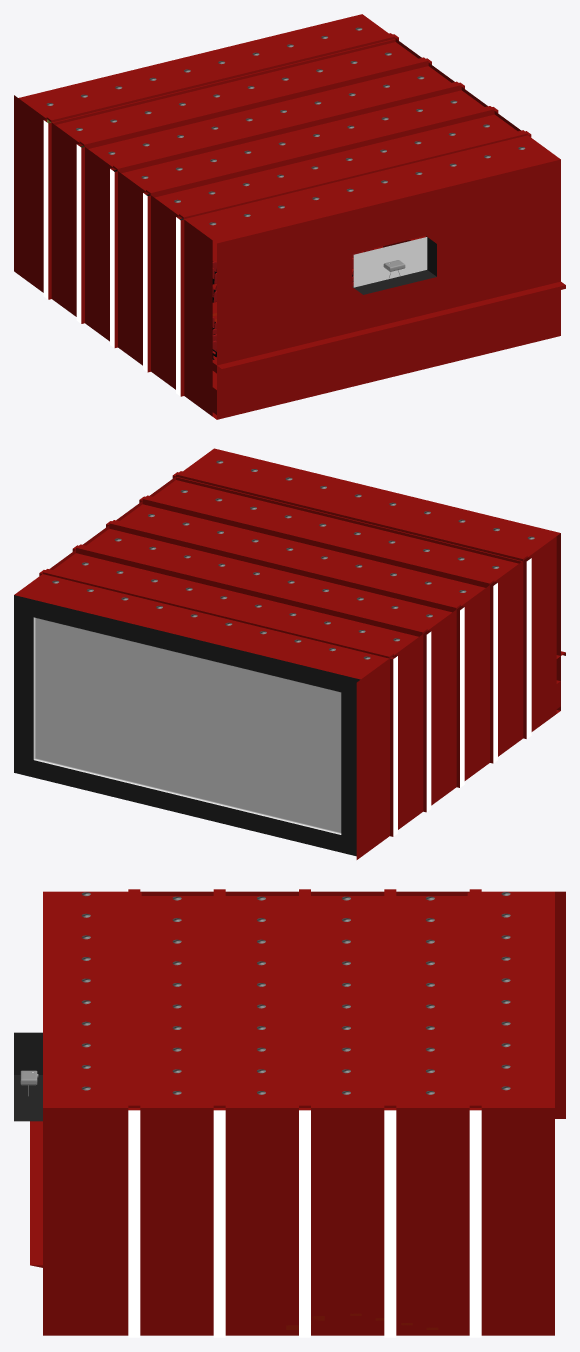
File: theater-webrtc.gltf
3 renders of one model, top to bottom at view 1: azimuth 30°, elevation 25°; view 2: azimuth 150°, elevation 25°; view 3: azimuth 270°, elevation 25°, orthographic. The views are drawn at different scales.
Parts seen in each view (by area): view 1: Plane.046, Plane.013, Mini Light, Cube; view 2: Plane.046, Mini Light; view 3: Plane.046, Mini Light, Plane.013, Cube.
Part boxes in pixels (left/top/right/bottom): Plane.046: left=14, top=14, right=560, bottom=419; Plane.013: left=212, top=281, right=565, bottom=372; Mini Light: left=46, top=27, right=525, bottom=225; Cube: left=212, top=239, right=518, bottom=415; Plane.046: left=14, top=448, right=560, bottom=859; Mini Light: left=52, top=460, right=534, bottom=659; Plane.046: left=14, top=889, right=565, bottom=1337; Mini Light: left=81, top=892, right=510, bottom=1094; Plane.013: left=30, top=1121, right=78, bottom=1268; Cube: left=188, top=1279, right=236, bottom=1329.
Bounding box in the file's own units: 20.45 × 10.07 × 21.61.
22 materials, 1 textured.
